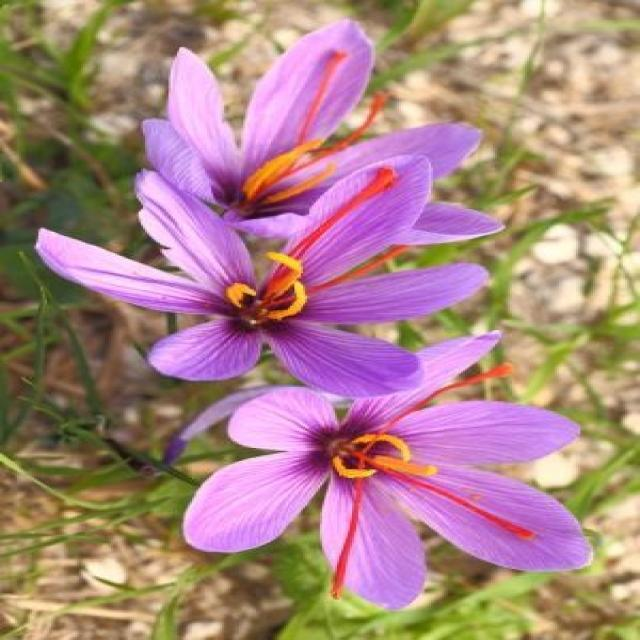Flower: (205, 359, 599, 617), (93, 188, 456, 386)
stigma: (238, 38, 392, 192), (375, 434, 551, 544), (256, 240, 448, 333), (245, 165, 456, 238), (323, 412, 369, 608)
